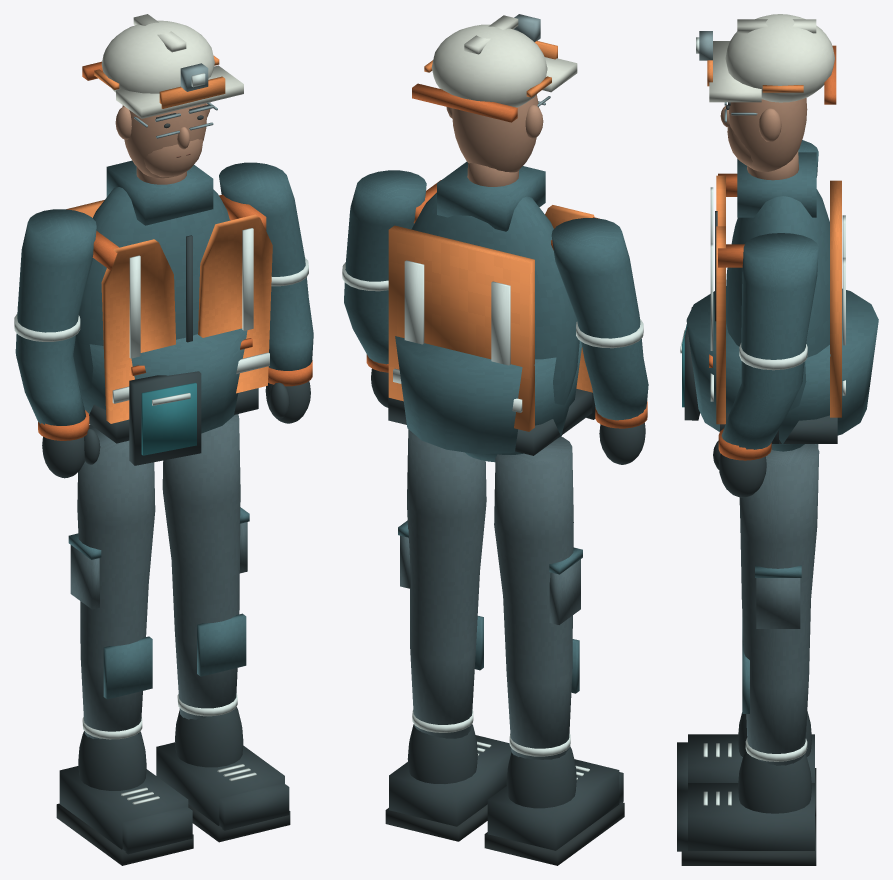
Rendered from IslandTechnician.glb.
3 renders of one model, left to right at view 1: azimuth 30°, elevation 25°; view 2: azimuth 150°, elevation 25°; view 3: azimuth 270°, elevation 25°, orthographic. The views are drawn at different scales.
Parts seen in each view (by area): view 1: Continuous trouser leg Right, Continuous trouser leg Left, Continuous jacket sleeve Left, Continuous jacket sleeve Right, Jacket core, Vest shaped front Left, Vest shaped front Right, Jacket lower taper, Helmet dome, Boot foot Left, Boot foot Right, Jacket collar (+28 smaller); view 2: Continuous trouser leg Left, Continuous trouser leg Right, Vest rear panel, Jacket lower taper, Continuous jacket sleeve Left, Jacket core, Continuous jacket sleeve Right, Helmet dome, Boot foot Left, Boot foot Right, Jacket collar, Head and jaw (+15 smaller); view 3: Continuous trouser leg Right, Continuous jacket sleeve Right, Jacket lower taper, Helmet dome, Jacket core, Boot foot Right, Head and jaw, Boot ankle Right, Jacket collar, Vest rear panel, Boot foot Left, Cargo pocket Right (+23 smaller).
Boxes of the visible parts, left/top/right/bottom form: Continuous trouser leg Right: left=162, top=414, right=240, bottom=719; Continuous trouser leg Left: left=77, top=424, right=155, bottom=739; Continuous jacket sleeve Left: left=15, top=209, right=96, bottom=425; Continuous jacket sleeve Right: left=219, top=162, right=313, bottom=370; Jacket core: left=73, top=187, right=230, bottom=390; Vest shaped front Left: left=101, top=239, right=175, bottom=423; Vest shaped front Right: left=198, top=214, right=272, bottom=393; Jacket lower taper: left=78, top=328, right=247, bottom=433; Helmet dome: left=101, top=20, right=214, bottom=93; Boot foot Left: left=59, top=766, right=188, bottom=849; Boot foot Right: left=156, top=742, right=284, bottom=825; Jacket collar: left=106, top=160, right=213, bottom=225; Continuous trouser leg Left: left=494, top=436, right=573, bottom=759; Continuous trouser leg Right: left=407, top=429, right=486, bottom=738; Vest rear panel: left=388, top=225, right=534, bottom=431; Jacket lower taper: left=395, top=336, right=581, bottom=453; Continuous jacket sleeve Left: left=551, top=218, right=648, bottom=420; Jacket core: left=411, top=192, right=579, bottom=462; Continuous jacket sleeve Right: left=344, top=170, right=426, bottom=364; Helmet dome: left=431, top=24, right=547, bottom=107; Boot foot Left: left=487, top=759, right=619, bottom=850; Boot foot Right: left=389, top=735, right=511, bottom=826; Jacket collar: left=437, top=161, right=545, bottom=231; Head and jaw: left=452, top=95, right=538, bottom=172; Continuous trouser leg Right: left=739, top=444, right=819, bottom=765; Continuous jacket sleeve Right: left=721, top=233, right=818, bottom=449; Jacket lower taper: left=686, top=288, right=878, bottom=444; Helmet dome: left=725, top=14, right=834, bottom=102; Jacket core: left=726, top=189, right=829, bottom=451; Boot foot Right: left=688, top=783, right=814, bottom=850; Head and jaw: left=729, top=98, right=807, bottom=171; Boot ankle Right: left=738, top=750, right=811, bottom=813; Jacket collar: left=737, top=152, right=816, bottom=217; Vest rear panel: left=830, top=180, right=841, bottom=417; Boot foot Left: left=688, top=734, right=814, bottom=782; Cargo pocket Right: left=756, top=578, right=800, bottom=628.
Bounding box in the file's own units: 0.704 × 1.84 × 0.4195.
Materials: 13 (13 with a texture image).
